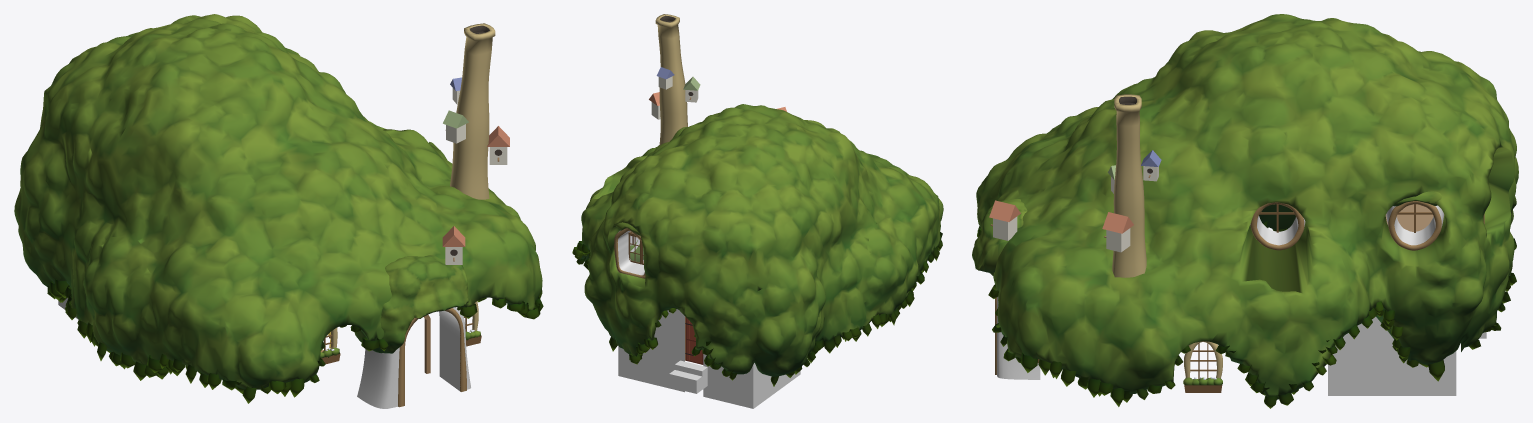
File: cottage_exterior.glb
3 views of the same model, side by side, from view 1: azimuth 30°, elevation 25°; view 2: azimuth 150°, elevation 25°; view 3: azimuth 270°, elevation 25° (orthographic). The views are drawn at different scales.
Parts seen in each view (by area): view 1: X2_Mound, X2_PorchCap, X2_Chimney, X2_Porch, X2_Fringe, X2_BirdhousePorch, X2_BirdhouseA, X2_BirdhouseB; view 2: X2_Mound, X2_Storeroom, X2_Fringe, X2_Chimney, X2_StoreStep, X2_WinFrameLoftBack, X2_StoreDoor, X2_LoftWinLeafB; view 3: X2_Mound, X2_Storeroom, X2_Fringe, X2_Chimney, X2_WinFrameLoftR2, X2_WinFrameLoftR1, X2_PorchCap, X2_Porch, X2_BirdhouseA, X2_BirdhousePorch, X2_WinFrameRight, X2_WinFoliage.
Part boxes in pixels (x1,y1,x2,y2): X2_Mound: (14,14,542,389); X2_PorchCap: (354,255,468,353); X2_Chimney: (450,23,495,199); X2_Porch: (357,307,470,408); X2_Fringe: (47,279,543,403); X2_BirdhousePorch: (442,226,465,264); X2_BirdhouseA: (487,126,509,164); X2_BirdhouseB: (443,110,468,143); X2_Mound: (580,104,943,376); X2_Storeroom: (618,260,800,408); X2_Fringe: (572,232,942,386); X2_Chimney: (655,14,687,145); X2_StoreStep: (669,360,707,393); X2_WinFrameLoftBack: (614,228,645,278); X2_StoreDoor: (685,317,703,364); X2_LoftWinLeafB: (628,234,641,264); X2_Mound: (976,14,1518,399); X2_Storeroom: (1328,204,1456,395); X2_Fringe: (977,221,1516,408); X2_Chimney: (1112,94,1146,277); X2_WinFrameLoftR2: (1386,201,1443,250); X2_WinFrameLoftR1: (1250,202,1305,250); X2_PorchCap: (972,199,1027,276); X2_Porch: (995,297,1040,379); X2_BirdhouseA: (1102,212,1133,252); X2_BirdhousePorch: (989,200,1020,240); X2_WinFrameRight: (1184,341,1222,378); X2_WinFoliage: (1183,191,1441,385).
Bounding box in the file's own units: 13.3 × 10.5 × 15.19.
